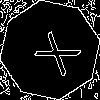X: (25, 25, 82, 78)
